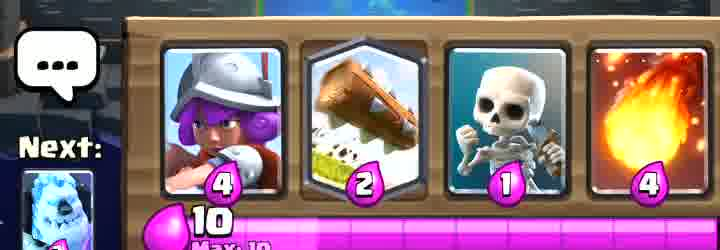fireball: (595, 46, 710, 193)
ice-golem: (24, 171, 93, 249)
log: (310, 43, 422, 192)
musketeer: (165, 48, 283, 203)
skeleton: (448, 58, 559, 201)
